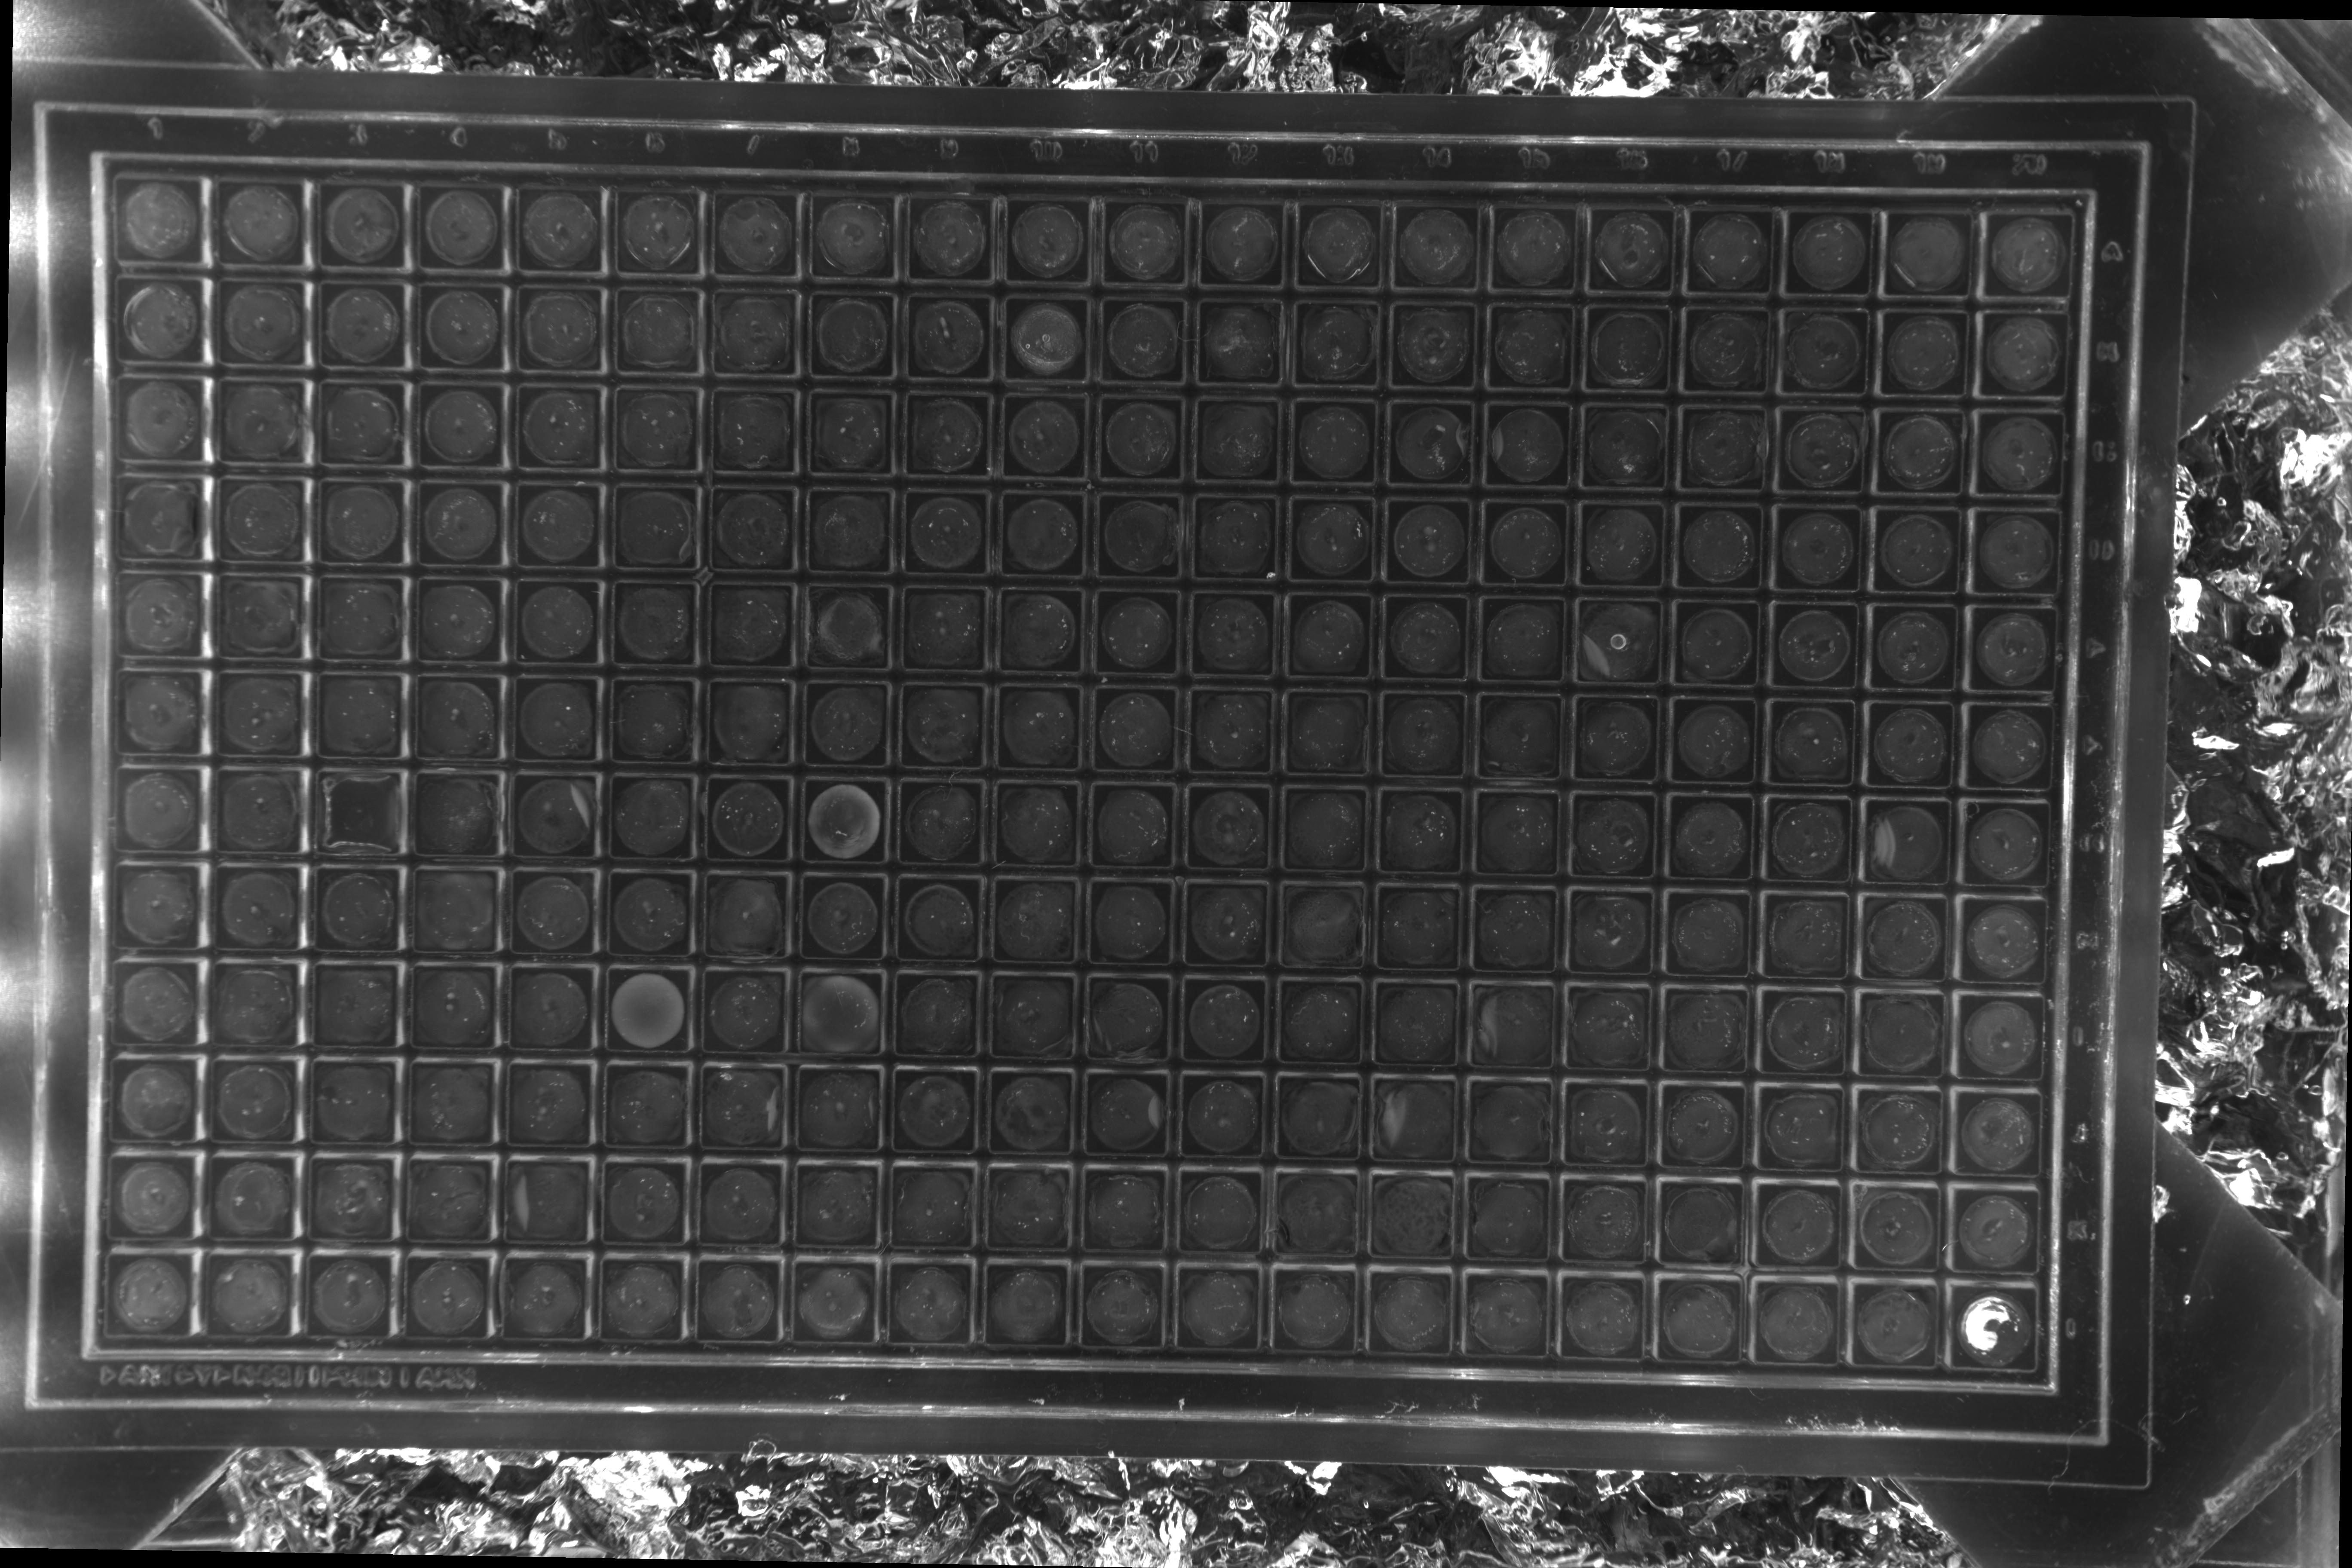WM_well: (397, 847, 486, 934), (497, 556, 586, 644), (497, 653, 586, 740), (595, 460, 684, 548), (688, 1043, 777, 1130), (982, 947, 1071, 1034), (205, 262, 292, 350), (301, 749, 388, 836), (401, 360, 488, 448), (401, 555, 488, 642), (882, 1337, 969, 1424), (980, 1337, 1067, 1424), (983, 656, 1071, 744), (1080, 464, 1167, 551), (1176, 269, 1263, 357), (1176, 1045, 1263, 1132), (1272, 656, 1360, 744), (1370, 850, 1458, 938), (1862, 952, 1949, 1039), (1865, 1349, 1953, 1437), (1956, 366, 2044, 453), (1963, 1151, 2051, 1239), (1965, 1351, 2053, 1438)
